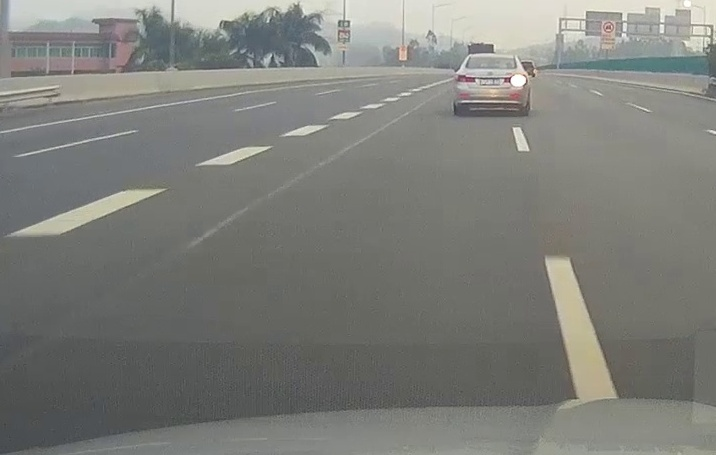L_light: (457, 75, 476, 83)
R_light: (504, 75, 526, 83)
T_light: (486, 56, 497, 59)
day-right: (452, 53, 529, 115)
